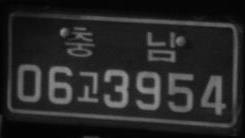0: (15, 62, 43, 104)
3: (102, 68, 130, 109)
4: (199, 74, 227, 116)
5: (166, 70, 195, 114)
6: (46, 65, 74, 106)
9: (133, 69, 163, 112)
고: (76, 69, 100, 104)
충남_D: (64, 25, 178, 64)
